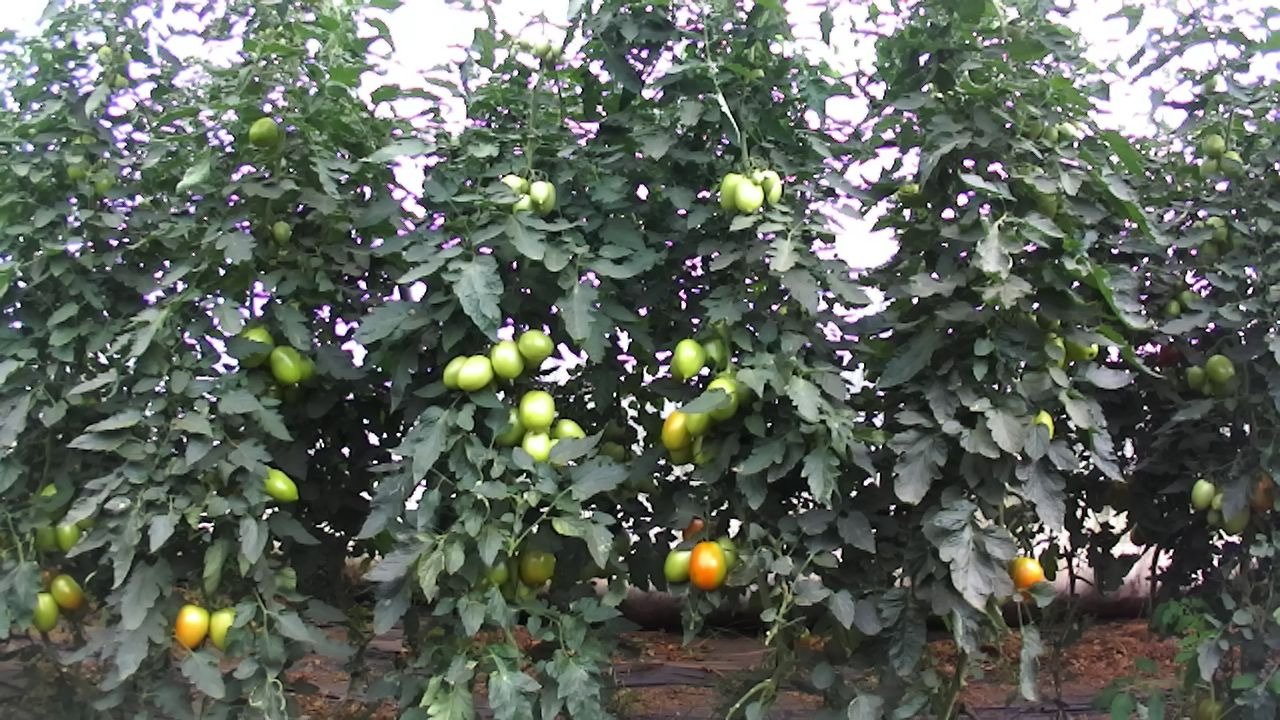tomato: (686, 538, 728, 594), (172, 601, 213, 652), (486, 337, 528, 383), (1007, 554, 1046, 603), (671, 335, 709, 384), (259, 463, 302, 506), (267, 341, 304, 390), (516, 547, 557, 590), (48, 571, 88, 615), (455, 351, 495, 393), (516, 390, 556, 431), (515, 326, 556, 364), (207, 603, 237, 653), (660, 406, 693, 451), (518, 423, 552, 466), (29, 589, 61, 634), (661, 544, 696, 584), (732, 173, 765, 215), (439, 351, 469, 392), (247, 115, 282, 149), (1203, 351, 1237, 386), (1189, 475, 1218, 513), (681, 404, 711, 440), (550, 416, 587, 440), (54, 519, 80, 553), (1199, 131, 1227, 160), (527, 178, 551, 206), (269, 217, 292, 246)
